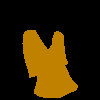maglia: (22, 29, 78, 98)
